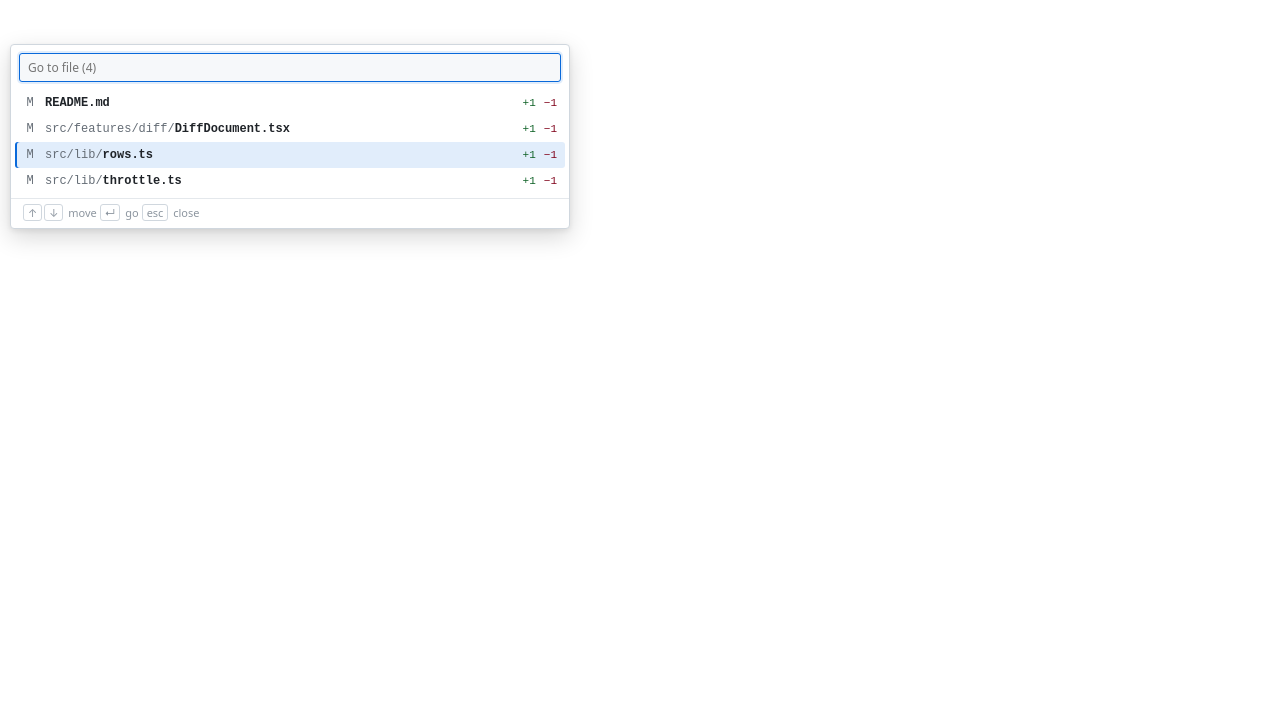
Test: FileNavigator › says so when nothing matches
The width and height of the screenshot is (1280, 720).
Type "zzz" into the dropdown named "Filter files" at x=290, y=68, box [19, 53, 561, 82]
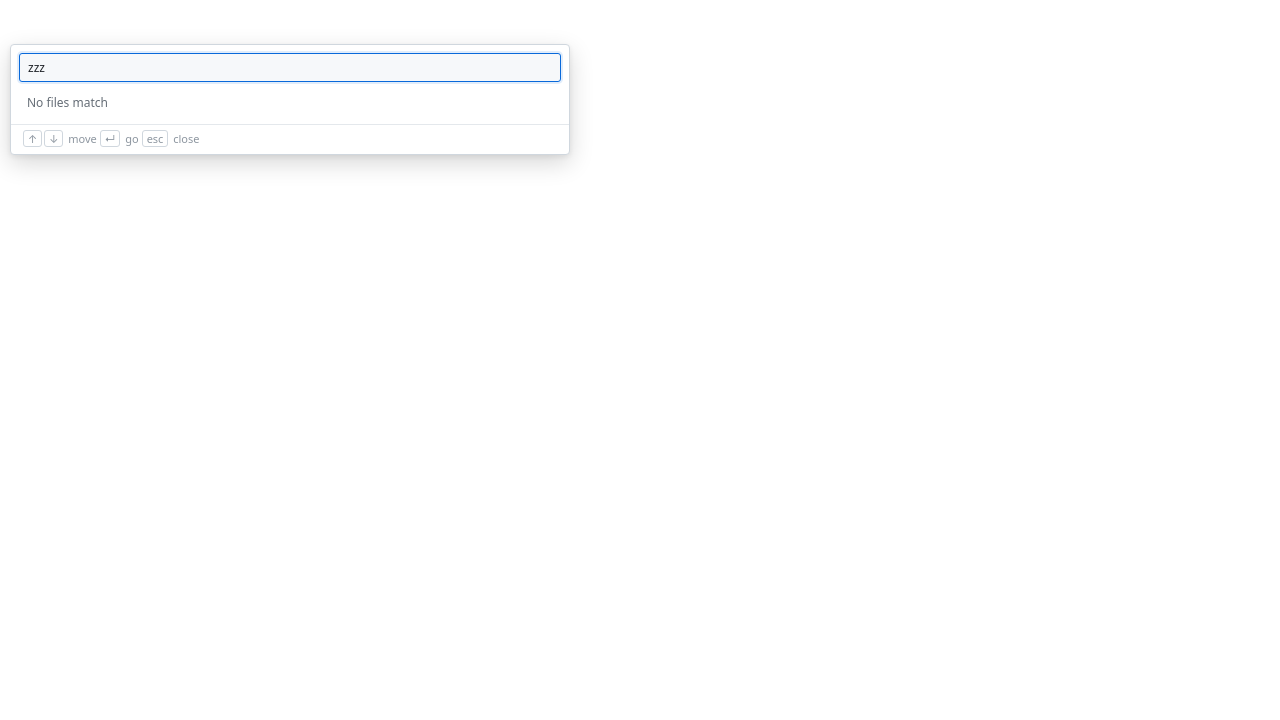
Expected: the text "No files match" is shown, [27, 94, 108, 111]
